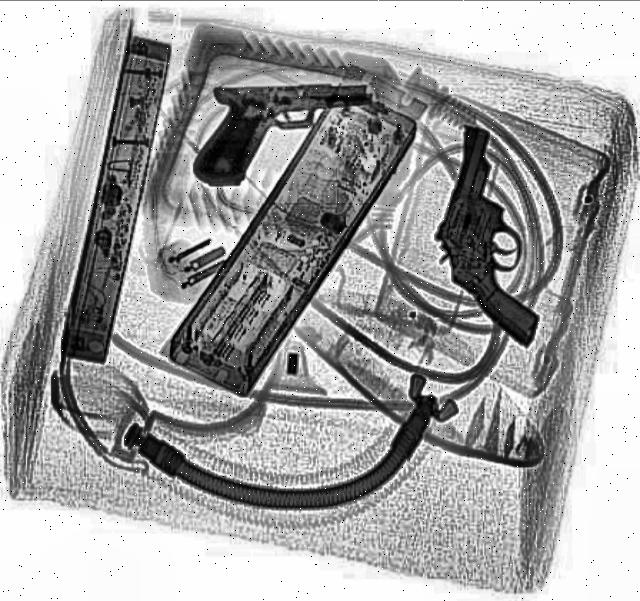Gun: (406, 130, 600, 350), (195, 84, 375, 188)
